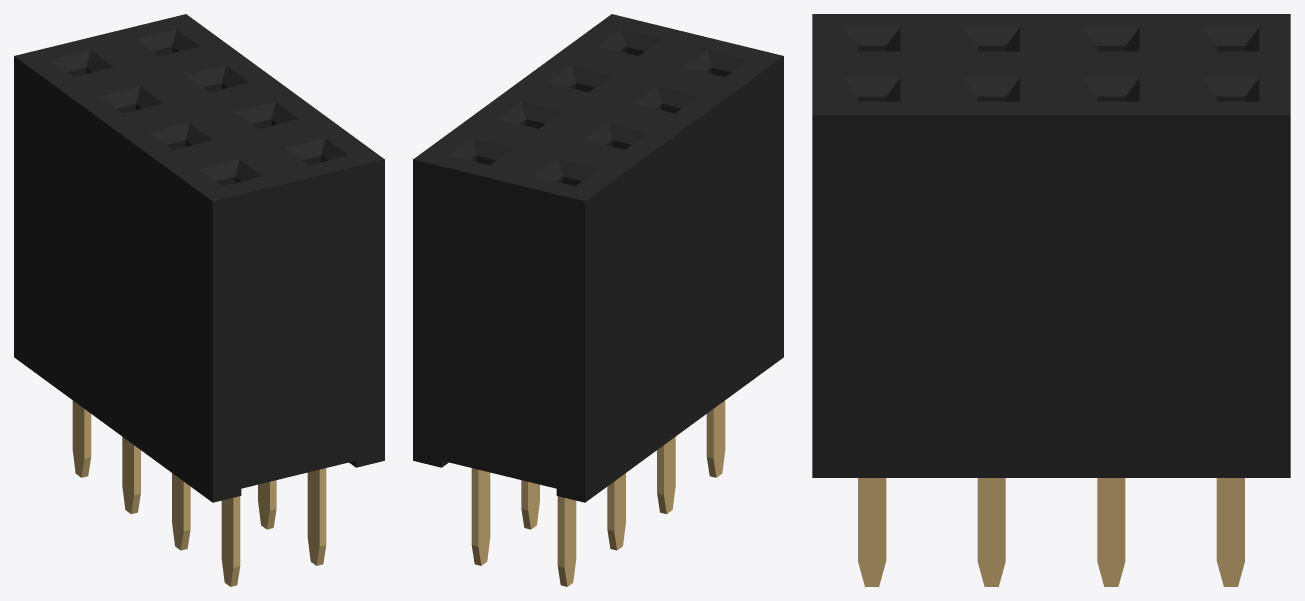
Rendered from PinSocket_2x04_P2.54mm_Vertical.glb.
3 renders of one model, left to right at view 1: azimuth 30°, elevation 25°; view 2: azimuth 150°, elevation 25°; view 3: azimuth 270°, elevation 25°, orthographic. The views are drawn at different scales.
Parts seen in each view (by area): view 1: =>[0:1:1:3]; view 2: =>[0:1:1:3]; view 3: =>[0:1:1:3].
Boxes of the visible parts, box(x1,y1,x2,y2) form: =>[0:1:1:3]: box(14, 14, 384, 586); =>[0:1:1:3]: box(413, 14, 783, 586); =>[0:1:1:3]: box(812, 14, 1290, 586).
Bounding box in the file's own units: 0.00508 × 0.0116 × 0.0102.
